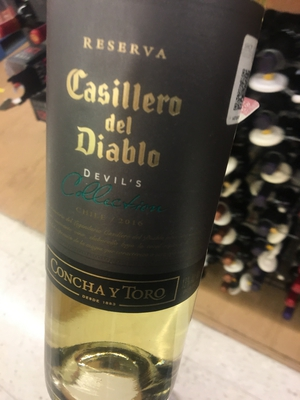casillero del diablo devils collection verde: (46, 2, 265, 400)
